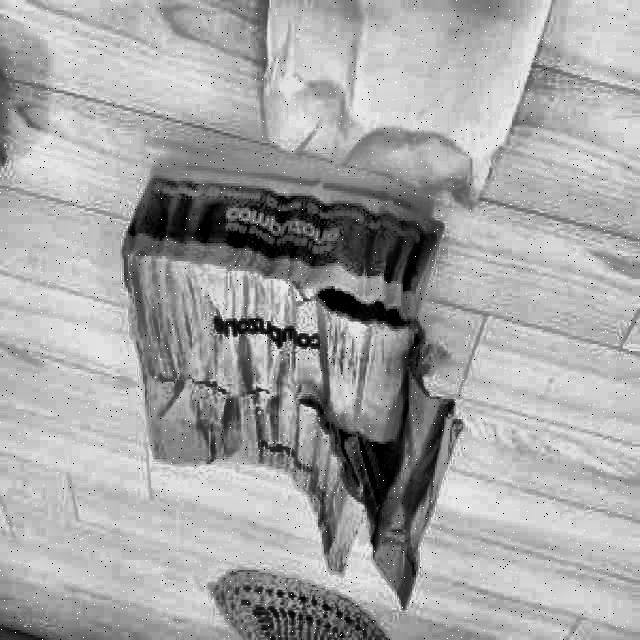box: (106, 145, 484, 625)
hole: (320, 286, 414, 340)
